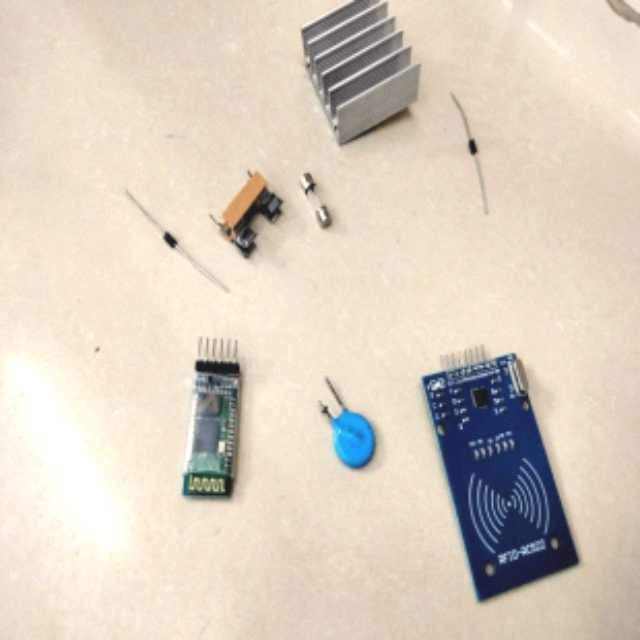capacitor: (334, 412, 375, 469)
